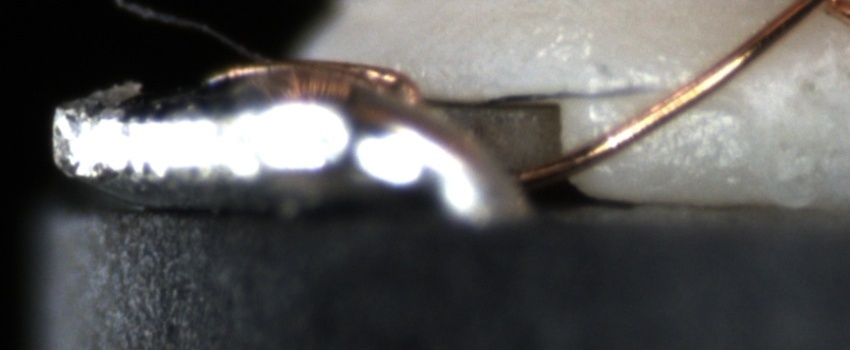CL: (782, 0, 846, 22)
DL: (588, 60, 743, 124)
TE: (195, 53, 426, 103)
